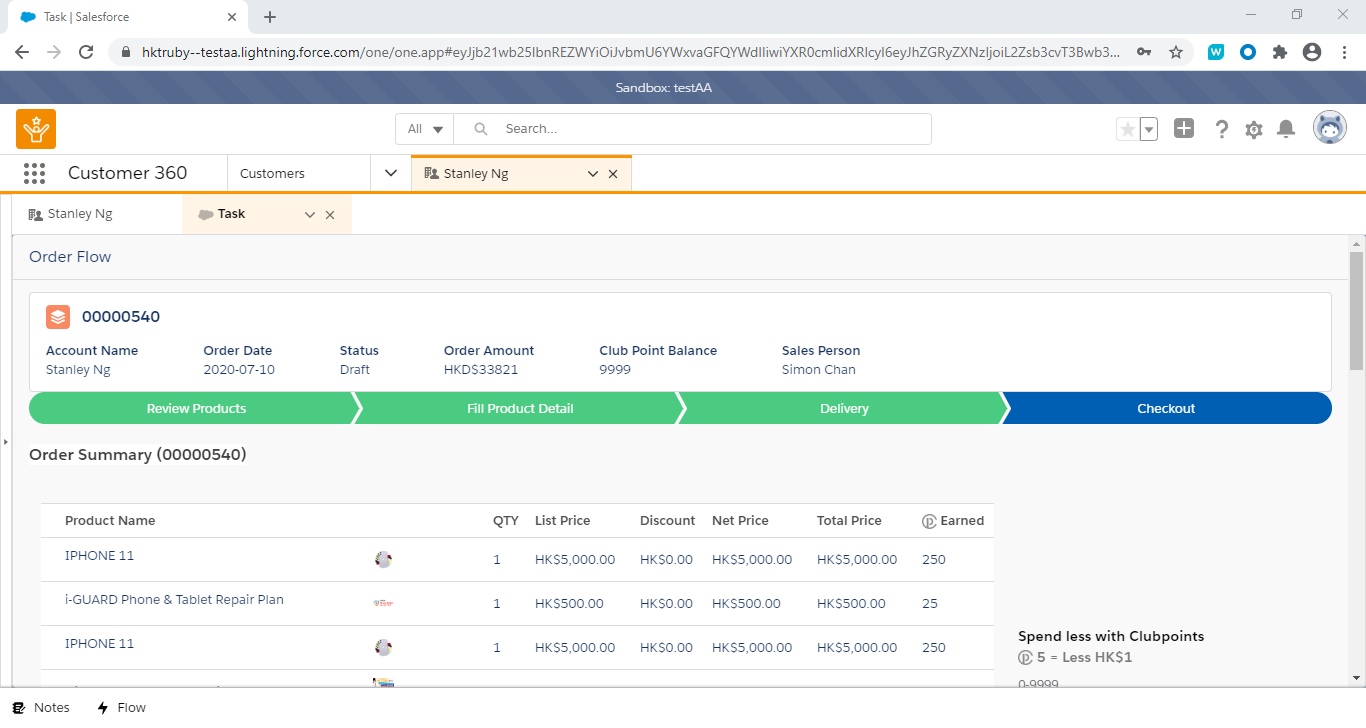COLUMN: (40, 505, 477, 670), (799, 502, 903, 670), (700, 501, 798, 670), (527, 504, 625, 671), (902, 502, 992, 670), (623, 502, 700, 671), (475, 505, 527, 670)
COMBOBOX: (395, 114, 454, 144)
DROPDOWN_HANDLE: (371, 154, 409, 191), (292, 192, 324, 233), (576, 155, 605, 191), (421, 113, 453, 145)
HEADER_ROW: (40, 504, 993, 537)
IMAGEBUTTON: (1310, 109, 1349, 146), (1114, 112, 1160, 143), (1168, 112, 1200, 144), (1270, 113, 1301, 144), (1206, 112, 1237, 143), (1237, 113, 1266, 143), (8, 38, 32, 63), (42, 39, 64, 62), (75, 40, 98, 62), (1267, 40, 1289, 63), (1300, 40, 1322, 63), (1204, 40, 1226, 62), (1236, 40, 1258, 62), (1165, 42, 1187, 62), (1134, 41, 1152, 59), (1241, 5, 1257, 20), (1341, 42, 1352, 61), (1289, 6, 1303, 20), (1336, 7, 1350, 21)
ROW: (42, 535, 994, 581), (41, 581, 993, 627), (40, 625, 992, 671)
SCROLLBAR_VERTICAL: (1347, 233, 1364, 685)
SCROLLBAR_VERTICAL_BAR: (1348, 249, 1366, 371)
SCROLLBAR_VERTICAL_HANDLE: (1347, 233, 1364, 251), (1347, 667, 1364, 685)
SEARCHBOX: (455, 112, 932, 144)
SEARCH_ICON_LEFT: (467, 114, 495, 141)
TABLE: (40, 504, 993, 672)
